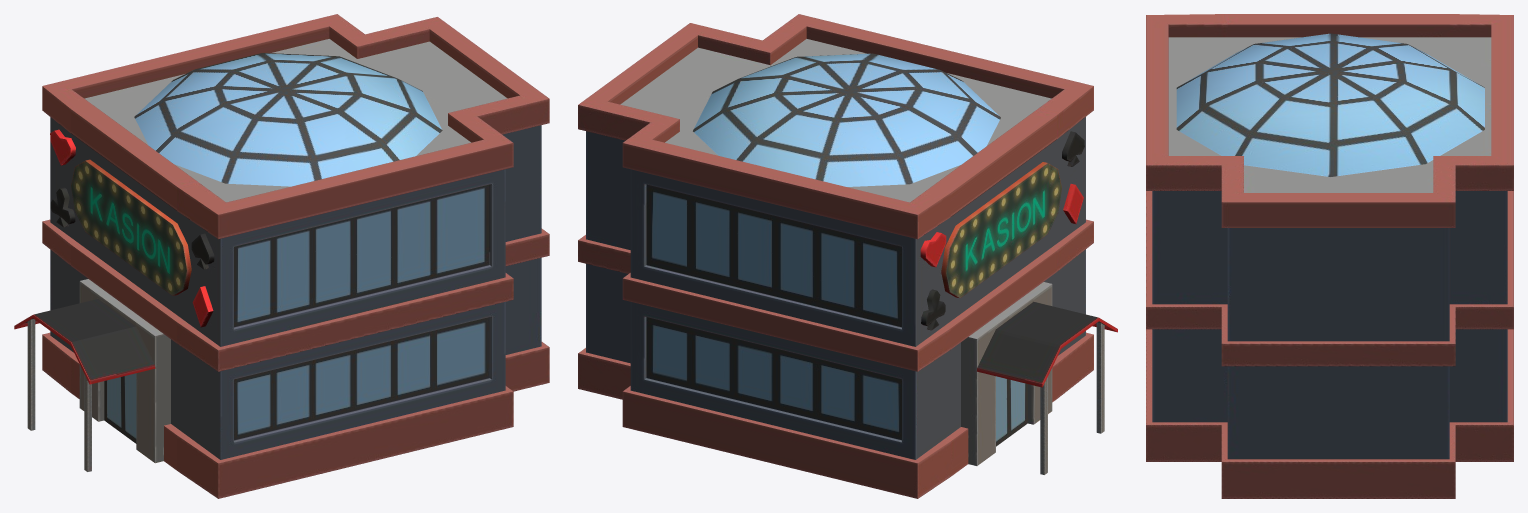
Rendered from Casino.glb.
3 renders of one model, left to right at view 1: azimuth 30°, elevation 25°; view 2: azimuth 150°, elevation 25°; view 3: azimuth 270°, elevation 25°, orthographic. The views are drawn at different scales.
Parts seen in each view (by area): view 1: Plane001; view 2: Plane001; view 3: Plane001.
Part boxes in pixels (bbox=[...]): Plane001: bbox=[14, 14, 549, 498]; Plane001: bbox=[578, 14, 1117, 498]; Plane001: bbox=[1146, 14, 1513, 498].
Bounding box in the file's own units: 5.96 × 3.92 × 4.1.
Materials: 1 (1 with a texture image).
